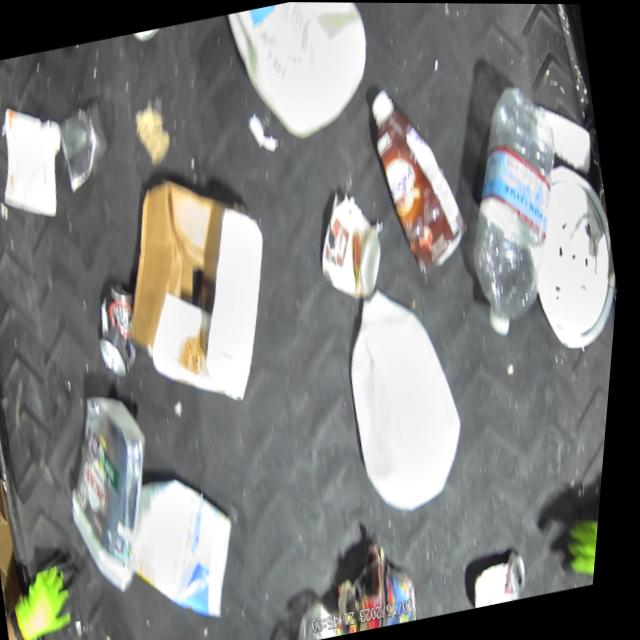can: (306, 182, 400, 309), (89, 276, 156, 383), (52, 98, 121, 195), (473, 544, 543, 608)
milk_jug: (328, 273, 493, 518), (217, 1, 388, 149)
plastic_bottle: (436, 75, 600, 342)
